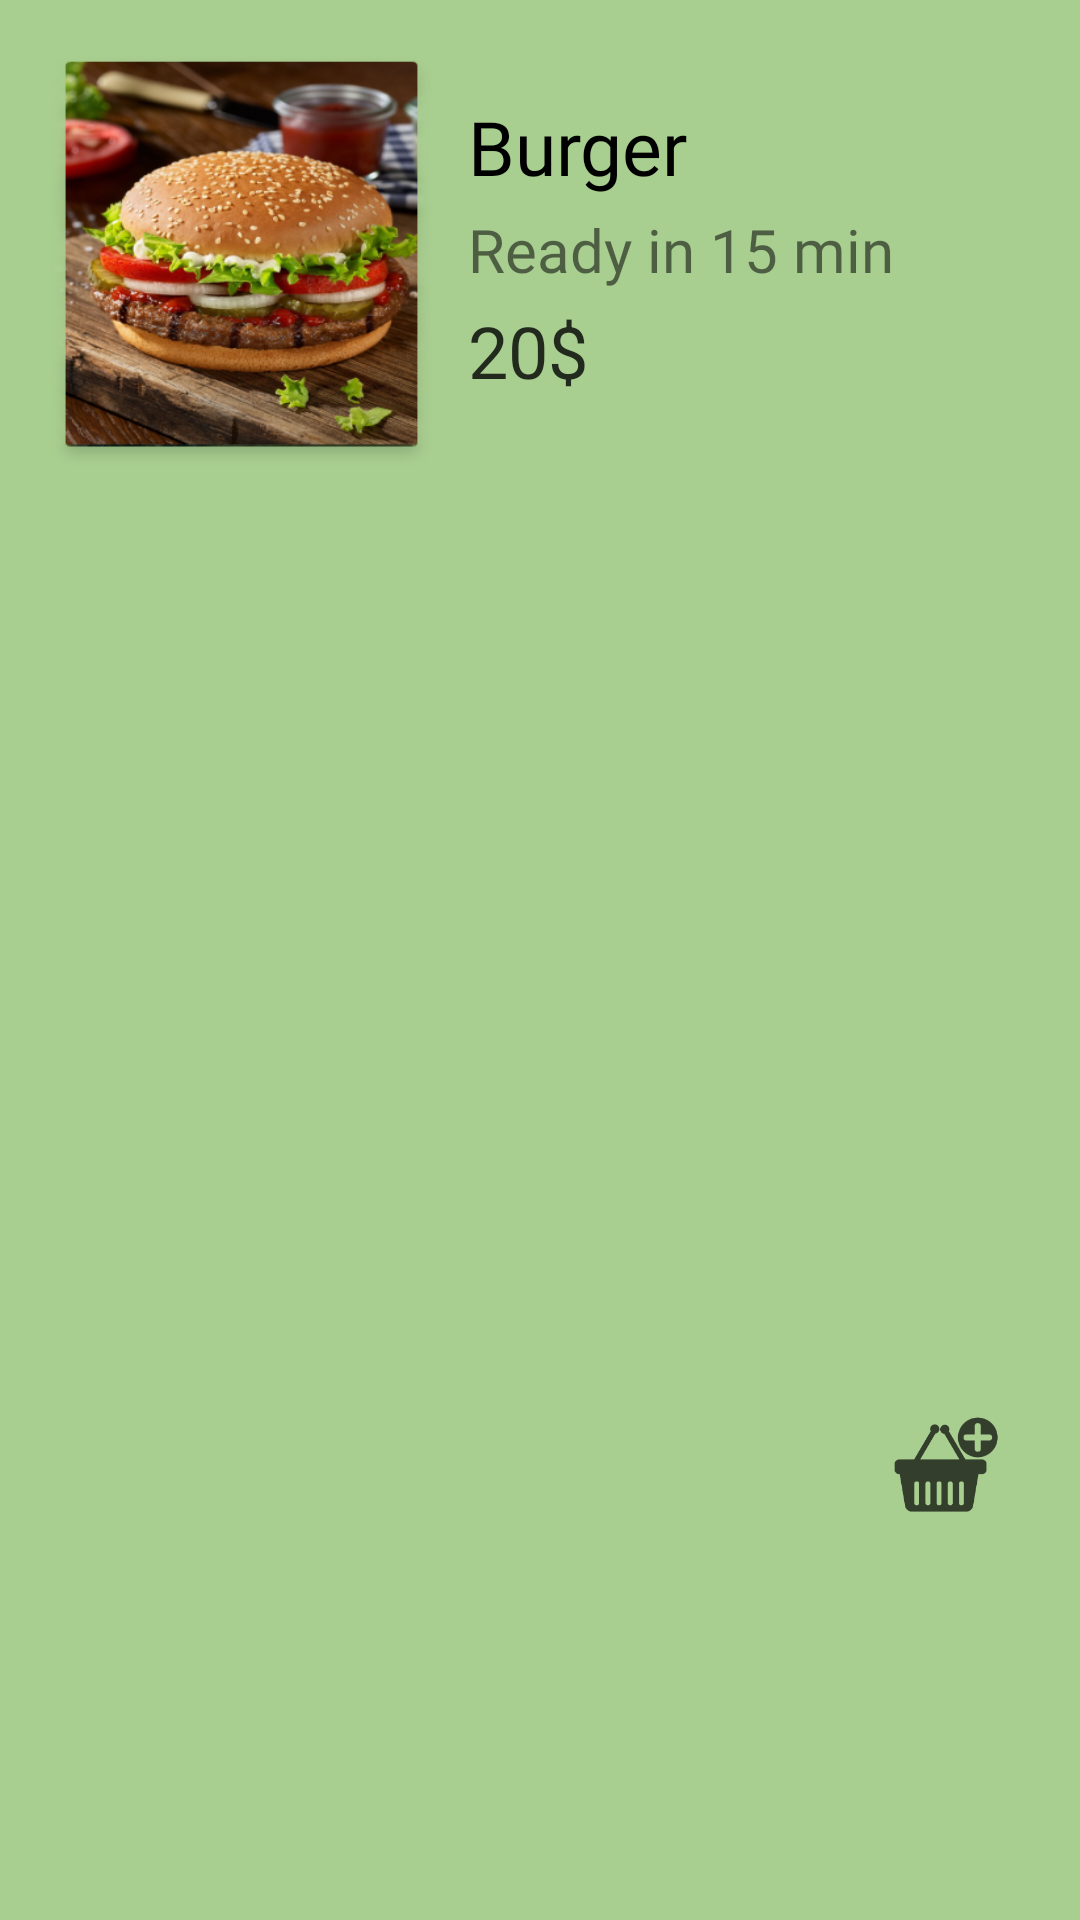

Icon bounding boxes for this 1080w x 1920h phone screenshot, format (x1=x1, y1=y1, x2=x2, y2=y2):
addtocart: (x1=894, y1=1417, x2=998, y2=1512)
